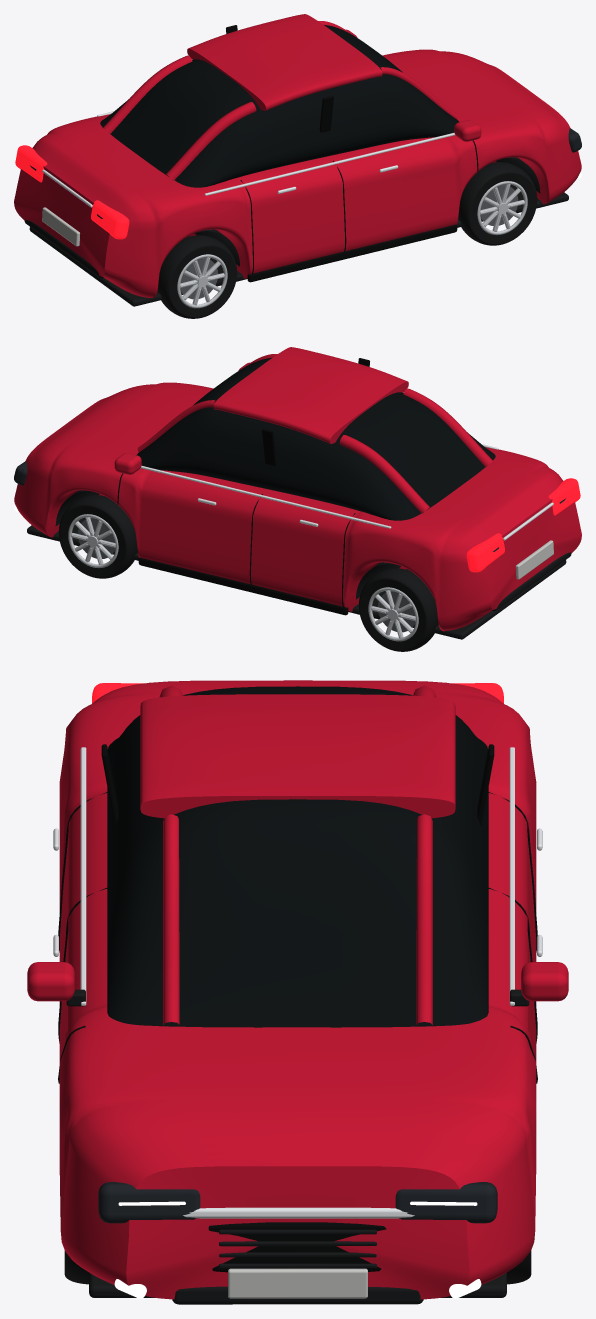
File: honda-amaze.glb
The picture shows the model from 3 angles, top to bottom: view 1: azimuth 30°, elevation 25°; view 2: azimuth 150°, elevation 25°; view 3: azimuth 270°, elevation 25°; orthographic projection. The views are drawn at different scales.
Parts seen in each view (by area): view 1: Body, Glasshouse, Roof, Tyre (×2), Pillar (×3), Trim (×3), GlossBlack (×2), Taillamp (×2), Rim (×2), Disc (×2), Chrome, Plate (+1 smaller); view 2: Body, Glasshouse, Roof, Tyre (×2), Pillar (×3), Trim (×3), GlossBlack (×2), Taillamp (×2), Rim (×2), Disc (×2), Chrome, Plate (+1 smaller); view 3: Body, Glasshouse, Roof, Trim (×6), Pillar (×2), Headlamp (×2), Chrome (×3), Plate, GlossBlack, Paint (×2).
Part boxes in pixels (x1,y1,x2,y2): Body: (14,49,581,298); Glasshouse: (100,25,459,187); Roof: (187,14,382,110); Tyre (×2): (157,162,537,318); Pillar (×3): (103,55,458,180); Trim (×3): (24,184,568,306); GlossBlack (×2): (247,95,457,282); Taillamp (×2): (15,145,129,239); Rim (×2): (177,181,527,308); Disc (×2): (180,184,518,299); Chrome: (204,133,455,195); Plate: (42,207,80,246); Body: (14,382,581,631); Glasshouse: (136,358,495,520); Roof: (213,347,408,443); Tyre (×2): (58,495,438,651); Pillar (×3): (137,388,492,513); Trim (×3): (27,517,571,639); GlossBlack (×2): (138,428,348,615); Taillamp (×2): (466,478,580,572); Rim (×2): (68,514,418,641); Disc (×2): (77,517,415,632); Chrome: (140,466,391,528); Plate: (515,540,553,579); Body: (59,680,536,1299); Glasshouse: (107,686,488,1027); Roof: (140,694,455,818); Trim (×6): (89,1229,506,1304); Pillar (×2): (163,814,432,1024); Headlamp (×2): (98,1182,497,1223); Chrome (×3): (80,747,514,1218); Plate: (228,1268,367,1298); GlossBlack: (208,1222,386,1272); Paint (×2): (27,962,568,1001).
Size of the model in its own units: 3.97 by 1.5 by 1.93.
